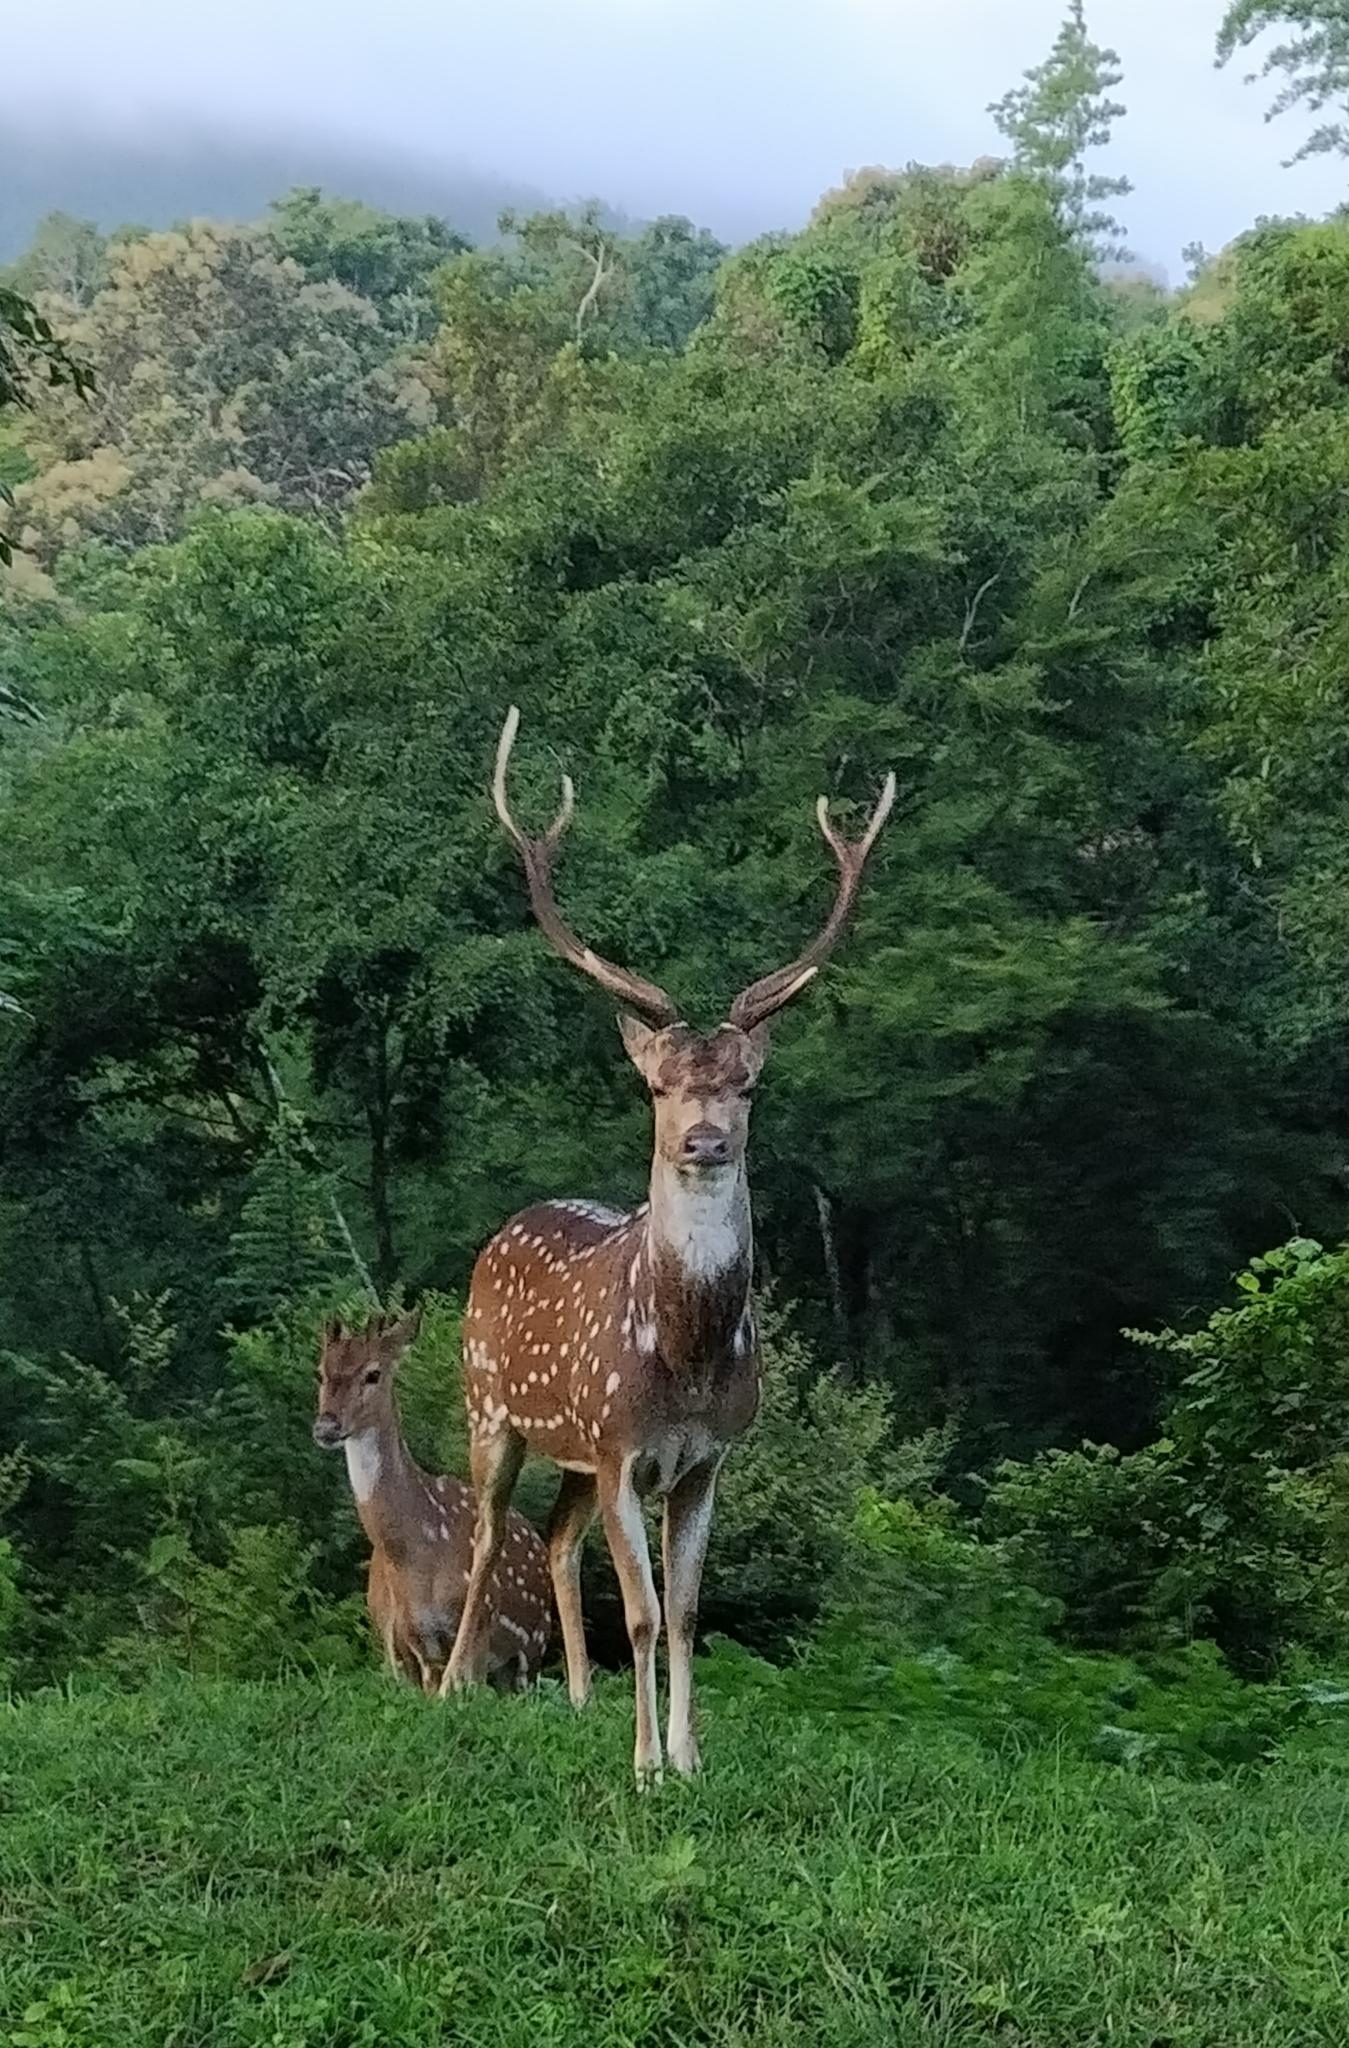Deer: (440, 706, 896, 1782), (313, 1305, 473, 1691)
